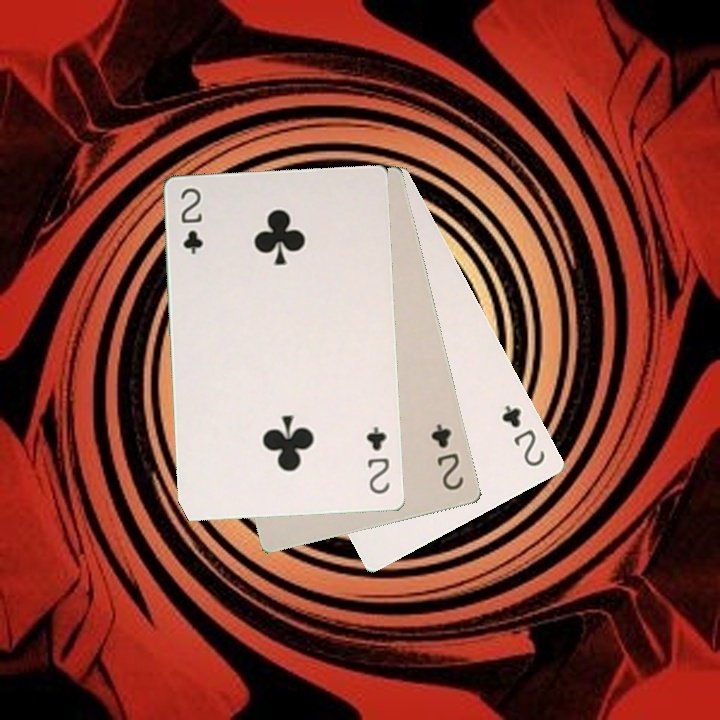2c: (497, 400, 548, 470), (427, 419, 466, 493), (362, 422, 392, 496), (176, 184, 206, 257)
